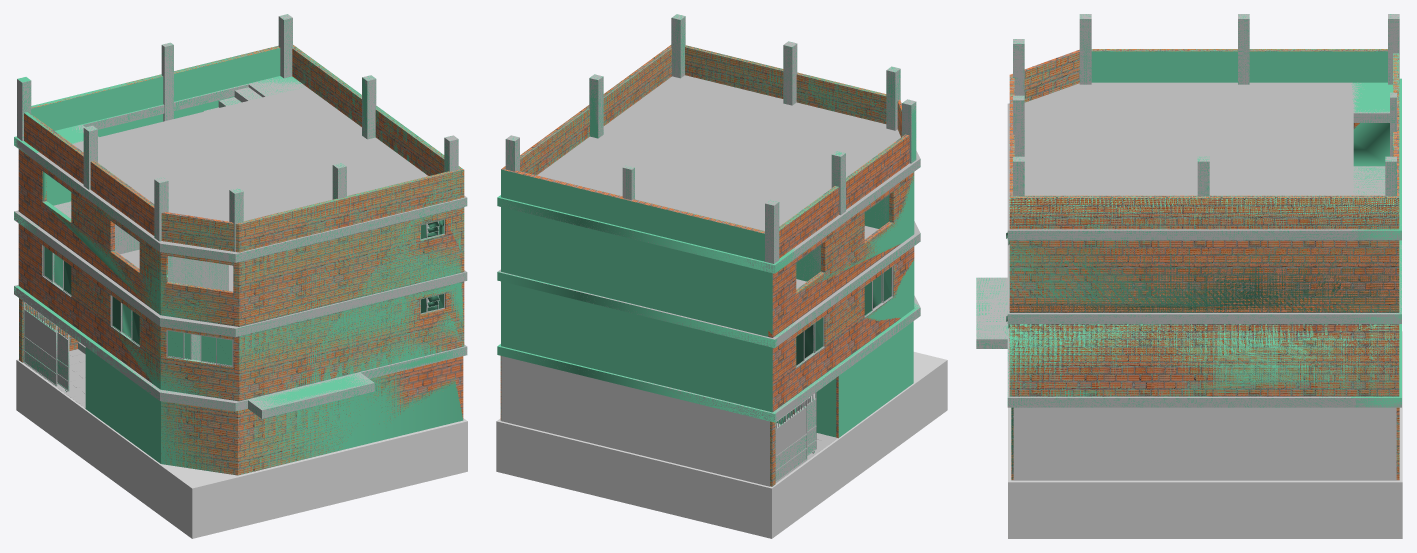
File: CASA 29.fbx
3 views of the same model, side by side, from view 1: azimuth 30°, elevation 25°; view 2: azimuth 150°, elevation 25°; view 3: azimuth 270°, elevation 25° (orthographic). The views are drawn at different scales.
Visible parts, largest first — view 1: CASA29_LOD0, UTM_CASA29, Cube_LOD0; view 2: UTM_CASA29, CASA29_LOD0, Cube_LOD0, OCC_Oclusion1; view 3: CASA29_LOD0, UTM_CASA29, OCC_Oclusion2, Cube_LOD0.
Boxes of the visible parts, <box> form: CASA29_LOD0: <box>14,14,467,475</box>; UTM_CASA29: <box>14,14,467,474</box>; Cube_LOD0: <box>16,359,467,538</box>; UTM_CASA29: <box>497,14,920,486</box>; CASA29_LOD0: <box>498,14,920,486</box>; Cube_LOD0: <box>496,352,947,538</box>; OCC_Oclusion1: <box>501,356,769,486</box>; CASA29_LOD0: <box>976,14,1401,480</box>; UTM_CASA29: <box>976,14,1401,479</box>; OCC_Oclusion2: <box>1013,407,1396,480</box>; Cube_LOD0: <box>1008,331,1402,538</box>.
Size of what is drawn, in the model's own units: 1154 by 1319 by 1364.
